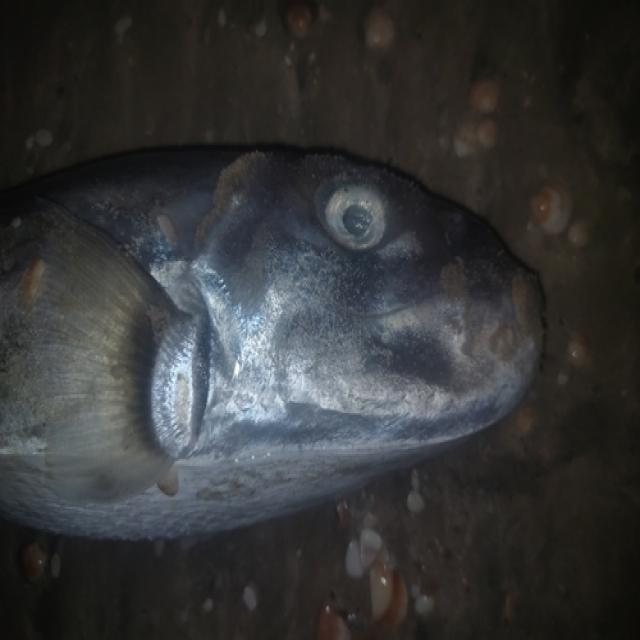Balik: (0, 151, 542, 537)
